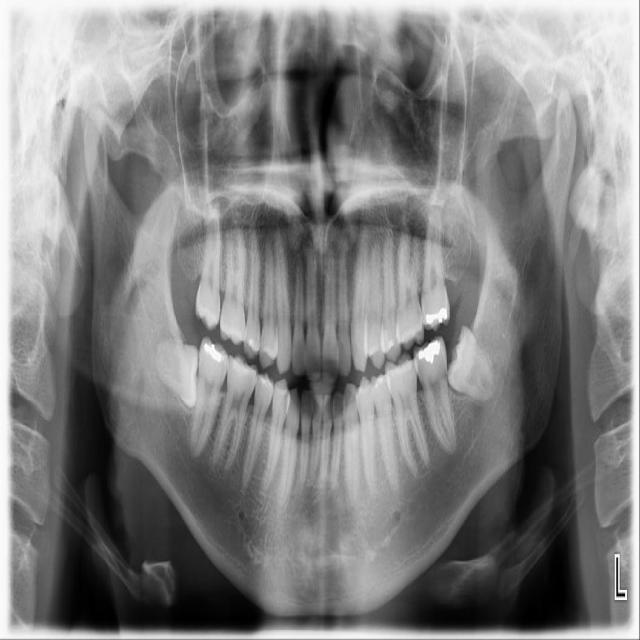Filling: (417, 339, 441, 363), (201, 341, 226, 363), (423, 307, 448, 328)
impacted tooth: (446, 326, 505, 400), (150, 345, 202, 408)
